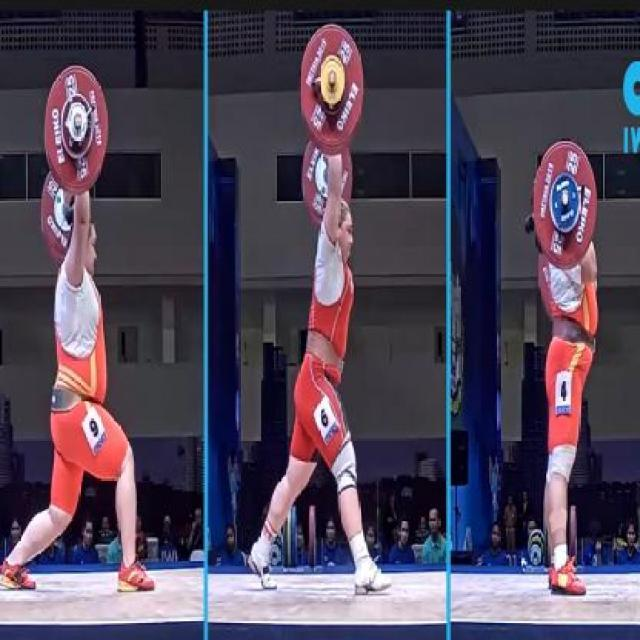Barbell: (70, 110, 84, 132), (326, 68, 339, 90), (561, 186, 570, 212)
